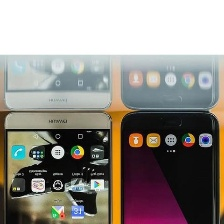phone: (0, 104, 115, 224), (2, 0, 112, 115), (115, 108, 224, 223), (115, 0, 223, 110)
